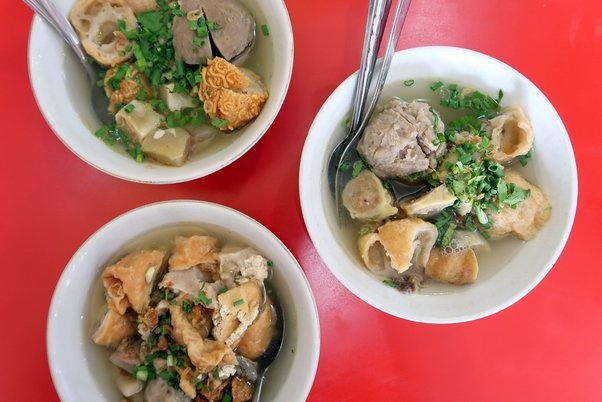bakso_malang: (322, 77, 554, 296), (78, 223, 297, 402), (60, 1, 275, 169)
